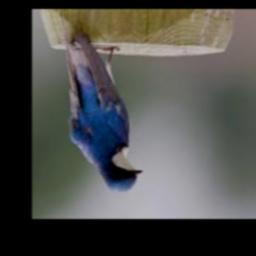Swallow: (66, 33, 142, 192)
